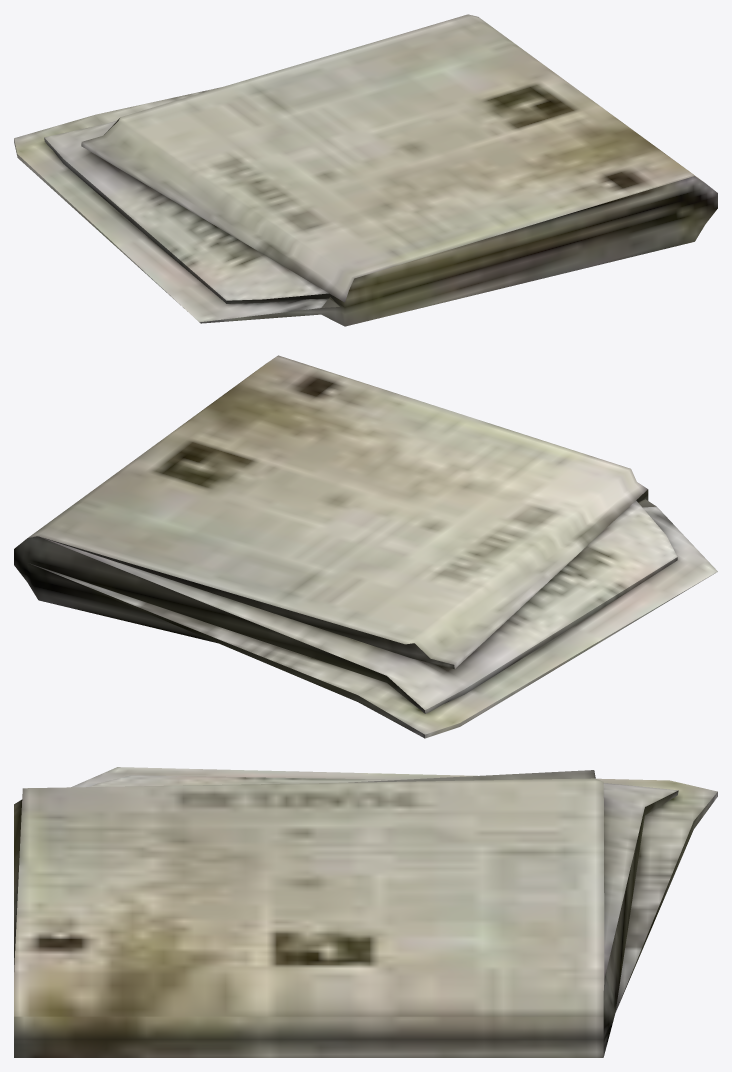
The model's file is garbage_newspaper001a.glb.
3 renders of one model, top to bottom at view 1: azimuth 30°, elevation 25°; view 2: azimuth 150°, elevation 25°; view 3: azimuth 270°, elevation 25°, orthographic. The views are drawn at different scales.
Parts seen in each view (by area): view 1: 0_garbage003a_01; view 2: 0_garbage003a_01; view 3: 0_garbage003a_01.
Boxes of the visible parts, x1,y1,x2,y2 form: 0_garbage003a_01: [14, 14, 717, 326]; 0_garbage003a_01: [14, 355, 717, 738]; 0_garbage003a_01: [14, 767, 717, 1057].
Bounding box in the file's own units: 0.6036 × 0.0792 × 0.5918.
1 material, 1 textured.
